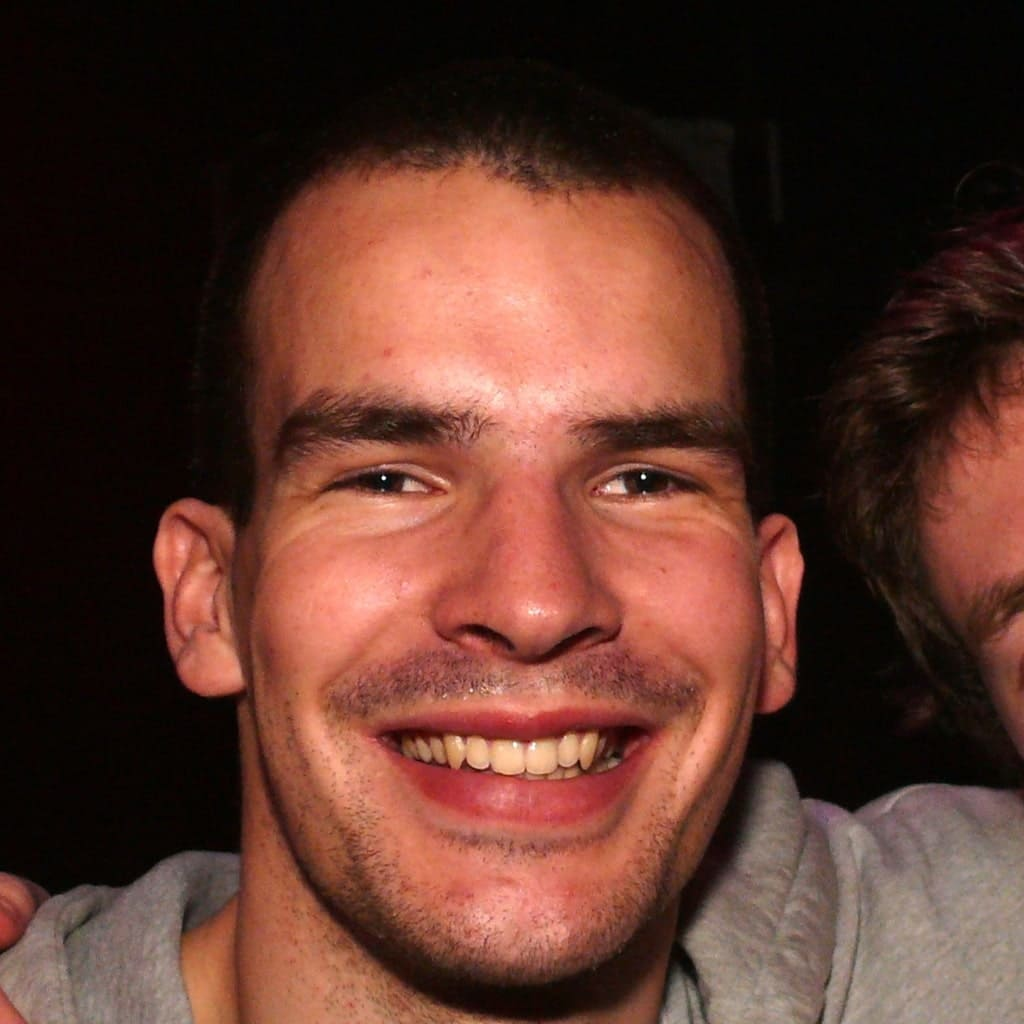without_mask: (245, 324, 740, 869)
